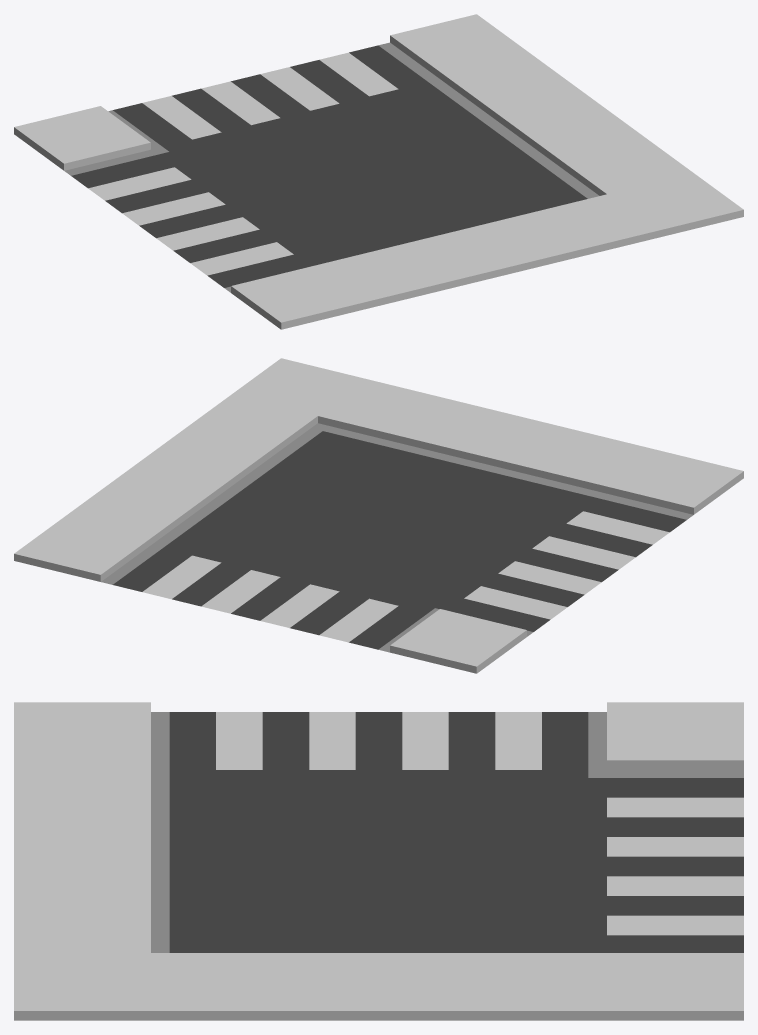
Rendered from Road_corner_part_1.FBX.
The picture shows the model from 3 angles, top to bottom: view 1: azimuth 30°, elevation 25°; view 2: azimuth 150°, elevation 25°; view 3: azimuth 270°, elevation 25°; orthographic projection. The views are drawn at different scales.
Visible parts, largest first — view 1: Road corner part 01; view 2: Road corner part 01; view 3: Road corner part 01.
Part boxes in pixels (x1,y1,x2,y2): Road corner part 01: (14, 14, 743, 329); Road corner part 01: (14, 358, 743, 673); Road corner part 01: (14, 702, 743, 1020).
Size of the model in its own units: 9 by 0.1326 by 9.
Materials: 1 (1 with a texture image).
